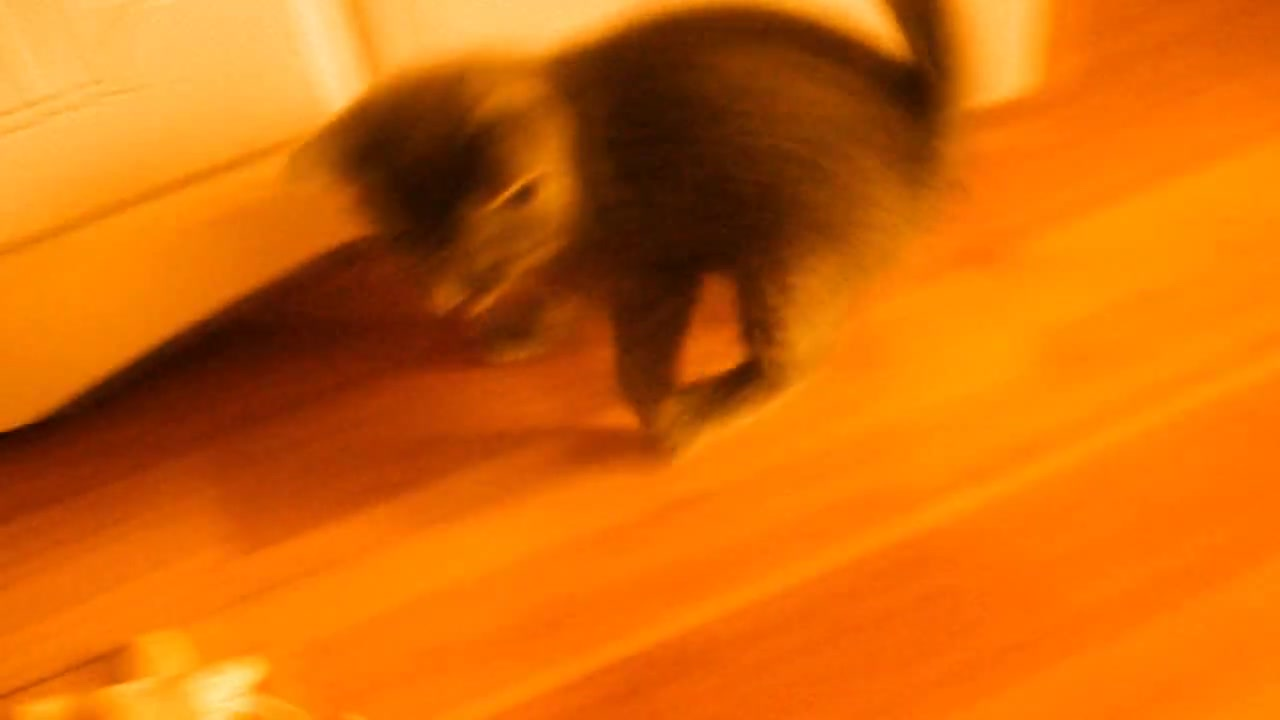cat: (294, 3, 965, 464)
